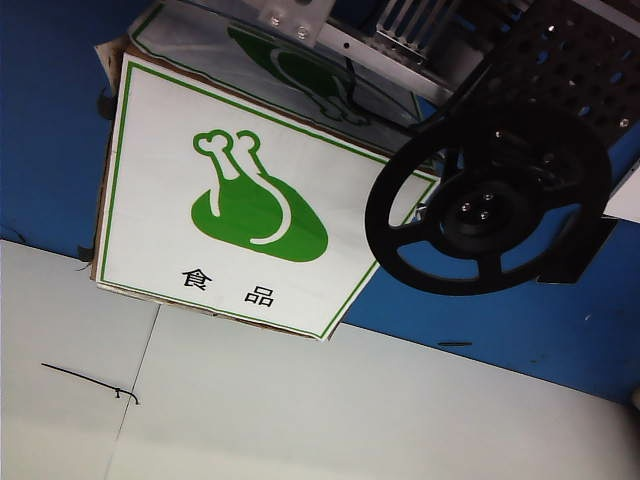Cube_food: (176, 121, 332, 313)
